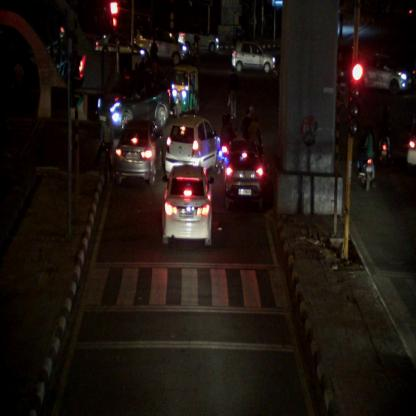car: (98, 75, 171, 130), (160, 166, 204, 244), (115, 118, 162, 185), (164, 114, 214, 176), (224, 138, 261, 209), (359, 52, 408, 97), (136, 30, 186, 66), (231, 42, 276, 74), (179, 25, 220, 56)
motorcycle: (358, 126, 376, 196), (219, 113, 236, 176), (180, 209, 194, 219)
